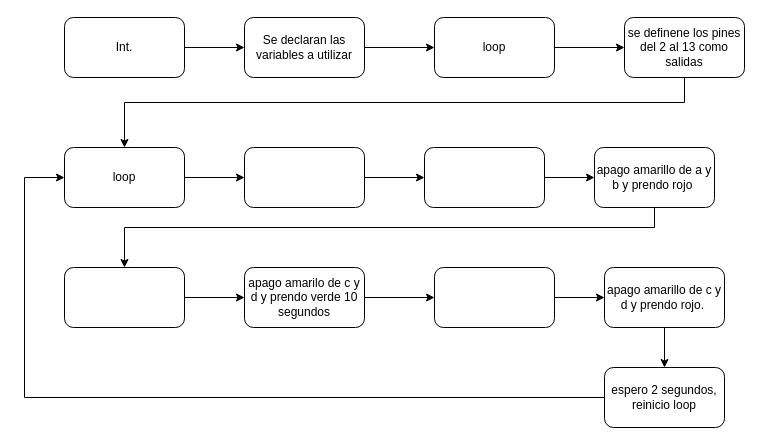
This 762x445 diagram has some shape labels left out. Here are the shapes that lost their labels. From the top down, the centre of each, then its label:
the point at 304,177: enciendo en verde semáforo a y b, en rojo semáforo c y d. todo durante 10 seg
the point at 484,177: apago verde de a y b y prendo amarillo por 2 segundos
the point at 124,297: prendo amarillo de c y d 2 segundos
the point at 494,297: apago verde de c y d y prendo amarillo por 2 seg
